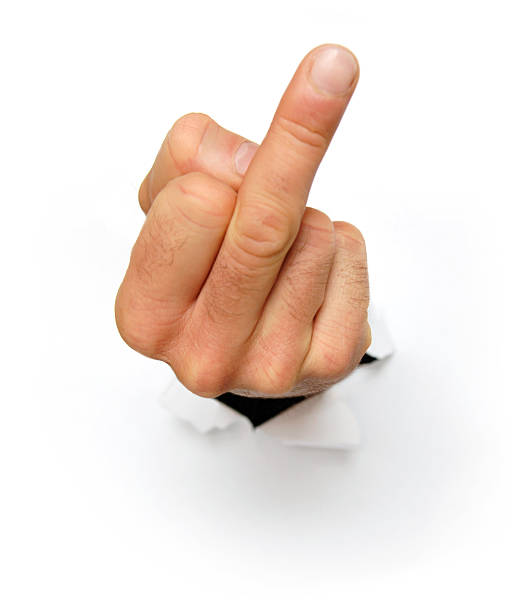insulting_gesture: (109, 39, 375, 407)
